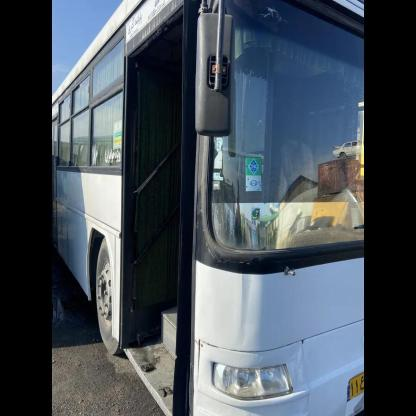Bus: (49, 0, 366, 416)
